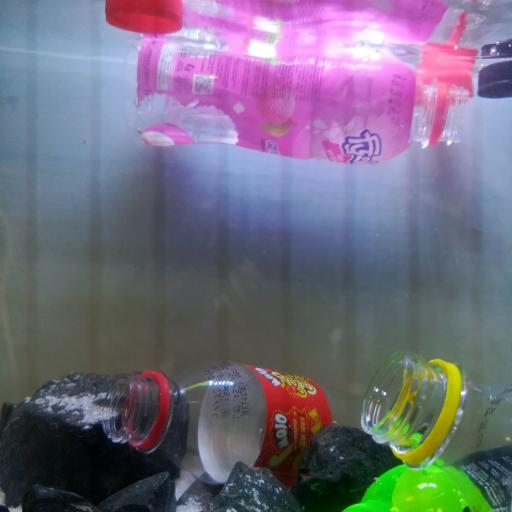bottle_cap: (106, 0, 185, 37), (426, 70, 475, 98), (480, 60, 512, 100)
plastic_bottle: (128, 38, 467, 166), (104, 359, 358, 484), (361, 354, 512, 512), (335, 451, 512, 512)
